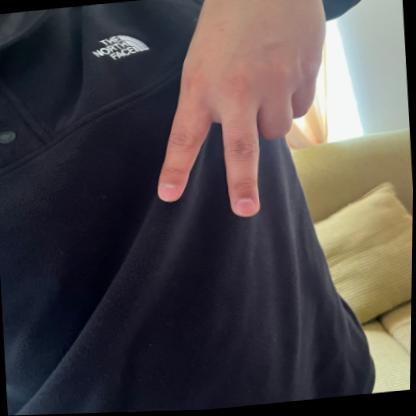N: (141, 0, 342, 235)
